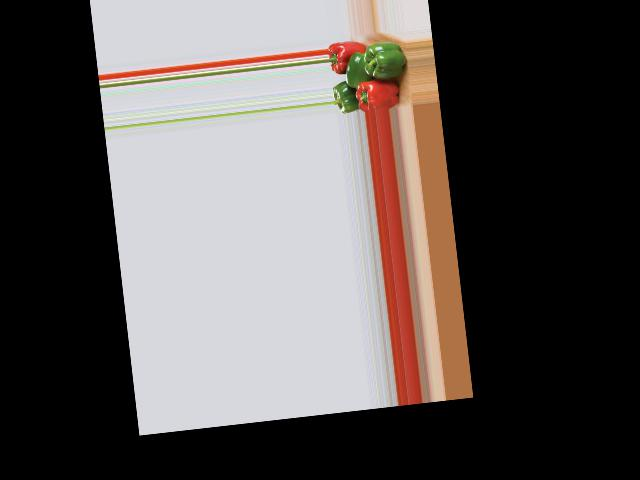bell_pepper: (355, 75, 405, 112)
